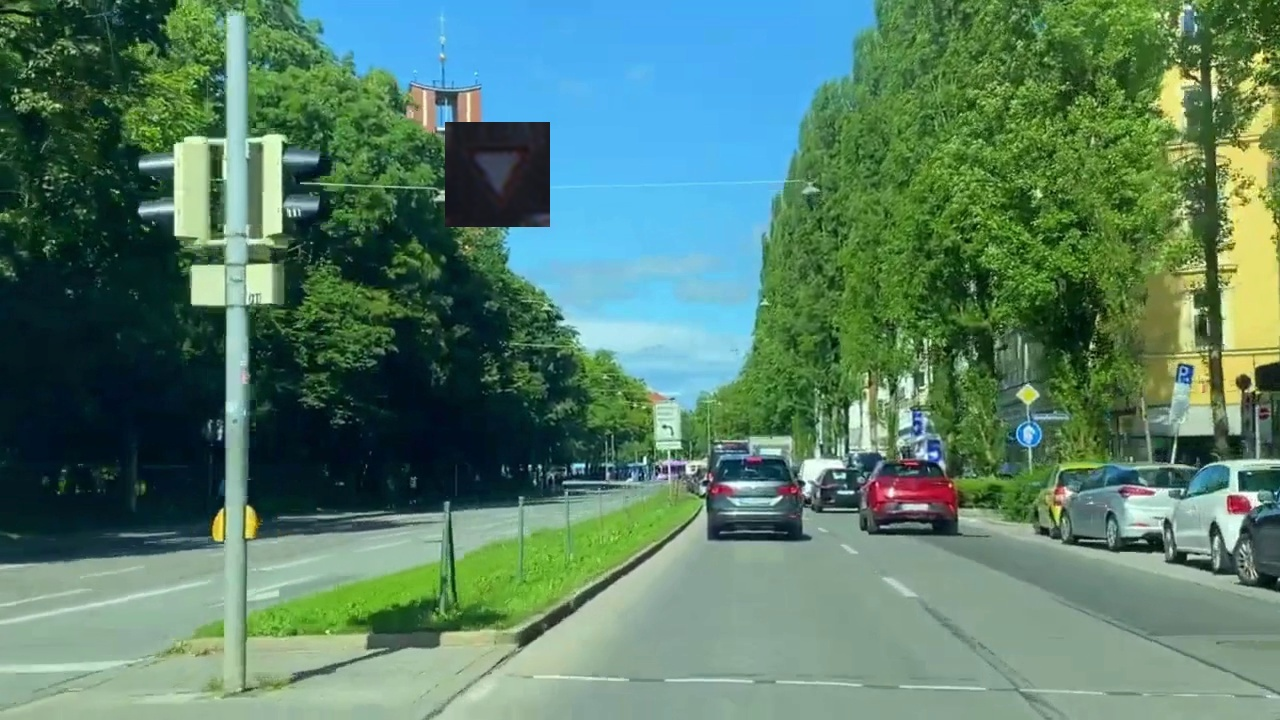Yield: (445, 122, 550, 227)
